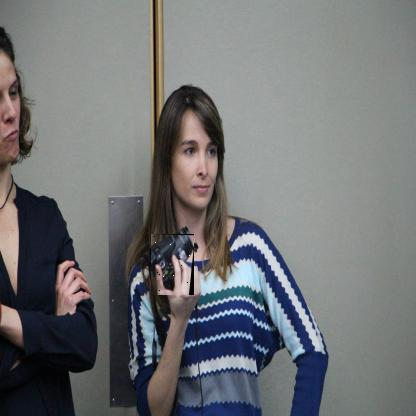Camera: (153, 235, 199, 297)
